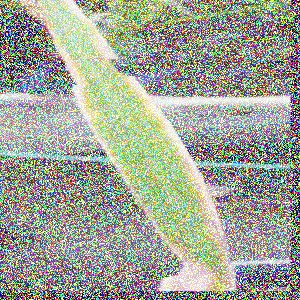Leaf_Blast: (115, 102, 229, 291)
